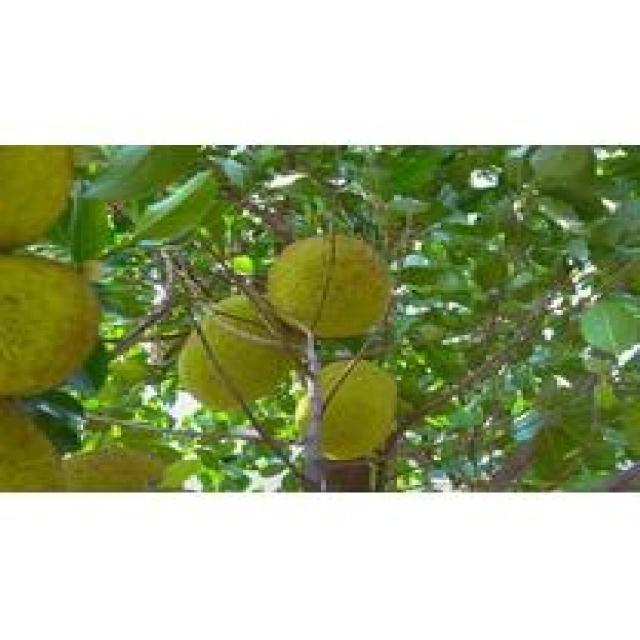Fruit: (249, 220, 400, 355), (0, 245, 108, 410)
